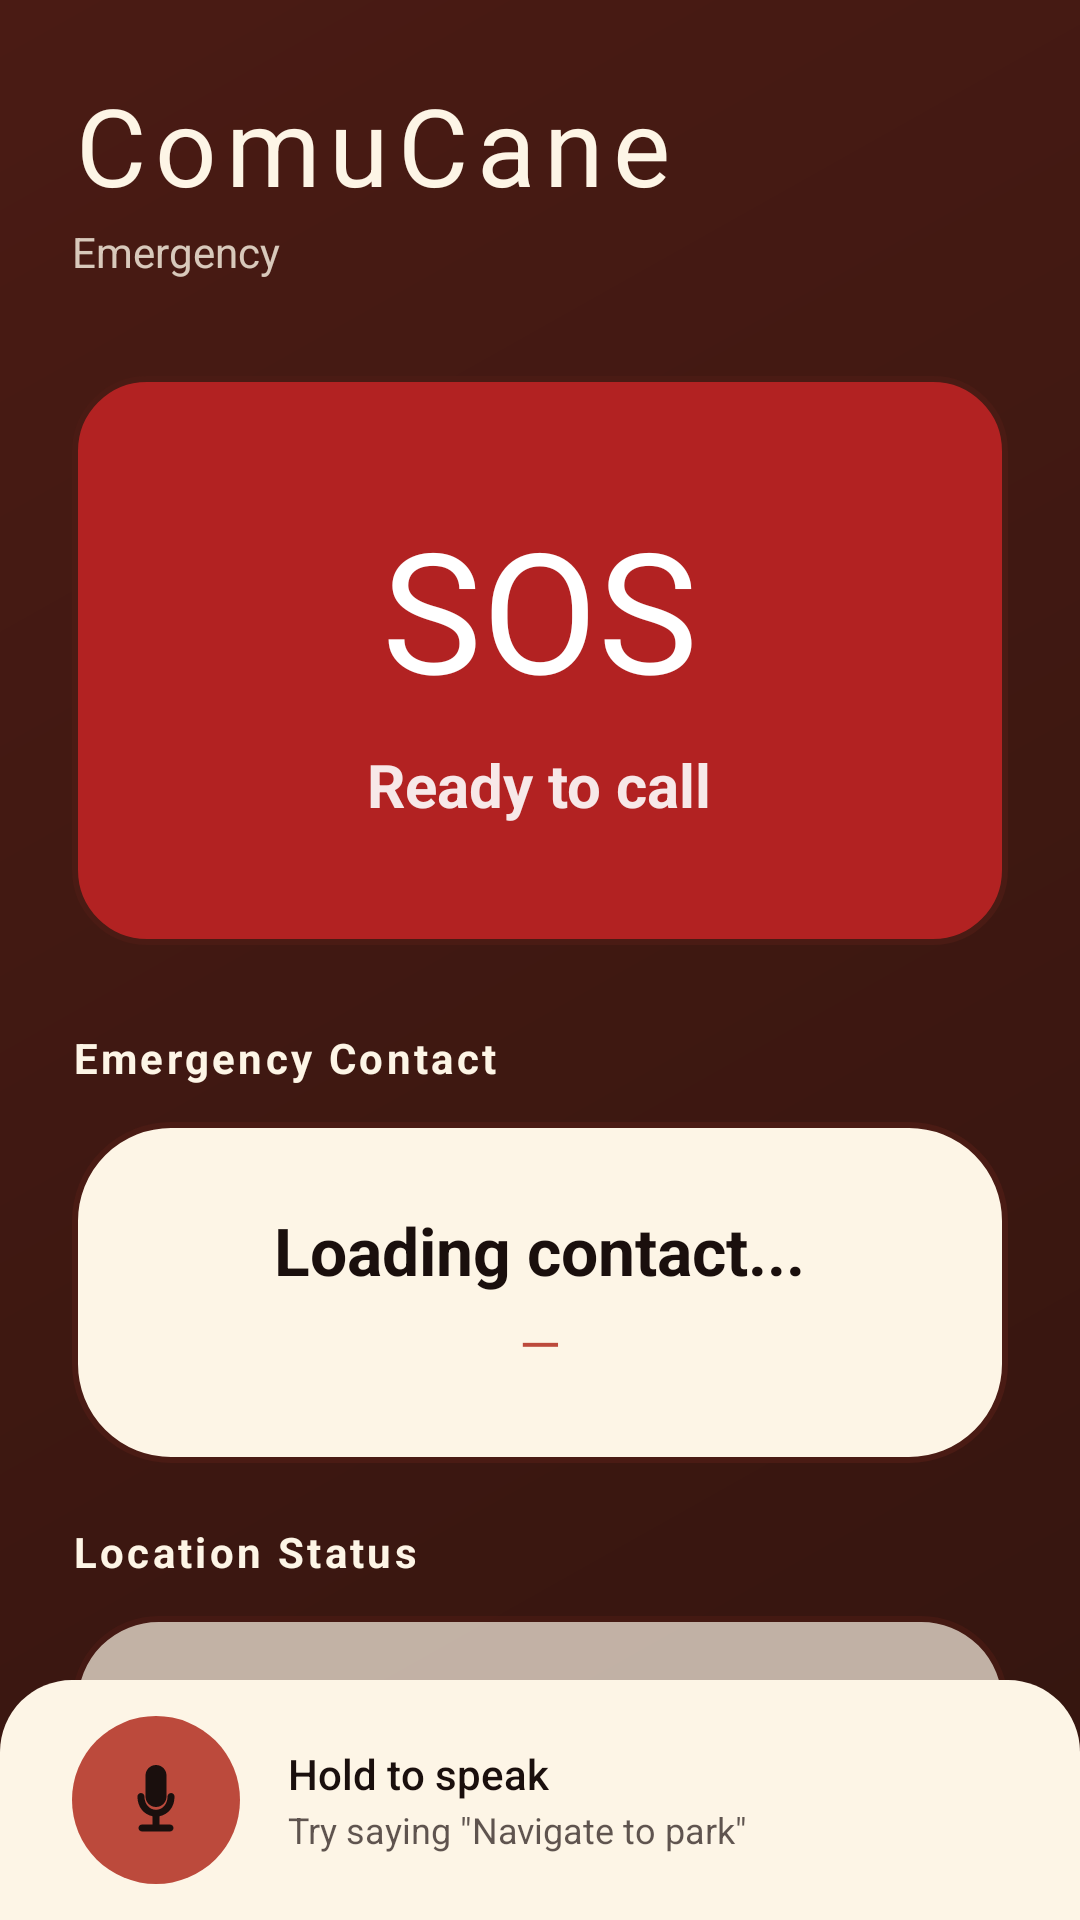

Screen size 1080x1920. Icon name, then its center in pixels as [x,y]:
voice mic: [156,1798]
